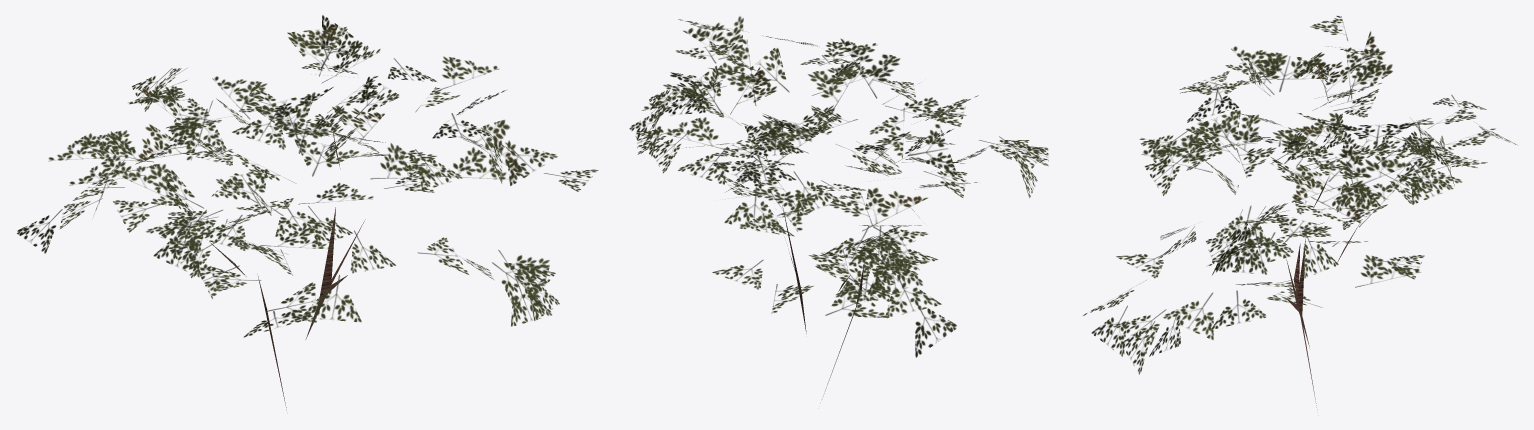
Rendered from tree-jungle.lod2.glb.
The picture shows the model from 3 angles, left to right: view 1: azimuth 30°, elevation 25°; view 2: azimuth 150°, elevation 25°; view 3: azimuth 270°, elevation 25°; orthographic projection. The views are drawn at different scales.
Visible parts, largest first — view 1: polySurface1_DB2X2_L02_0, polySurface1_Trank_bark1_0; view 2: polySurface1_DB2X2_L02_0, polySurface1_Trank_bark1_0; view 3: polySurface1_DB2X2_L02_0, polySurface1_Trank_bark1_0.
Boxes of the visible parts, x1,y1,x2,y2 form: polySurface1_DB2X2_L02_0: [17, 15, 598, 337]; polySurface1_Trank_bark1_0: [209, 130, 365, 410]; polySurface1_DB2X2_L02_0: [629, 16, 1048, 357]; polySurface1_Trank_bark1_0: [762, 143, 864, 396]; polySurface1_DB2X2_L02_0: [1083, 16, 1516, 374]; polySurface1_Trank_bark1_0: [1286, 176, 1359, 409].
Size of the model in its own units: 20.06 by 16.59 by 18.12.
2 materials, 2 textured.
